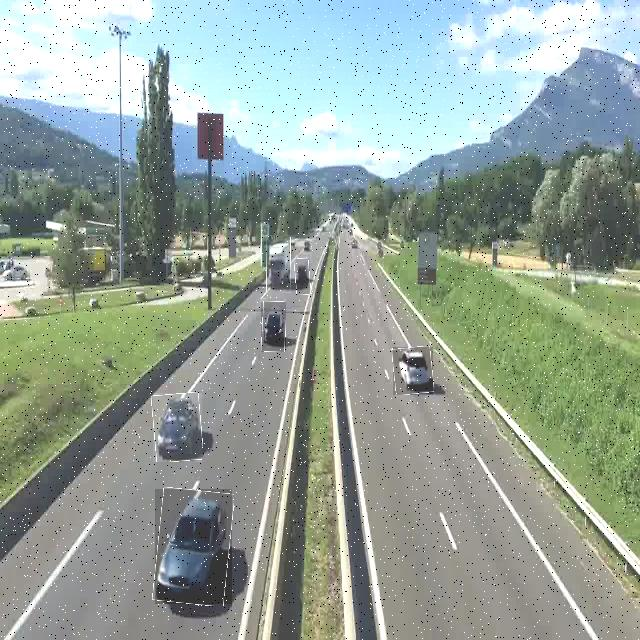Car: (155, 489, 232, 604), (153, 393, 202, 462), (393, 347, 433, 395), (261, 302, 286, 352), (296, 259, 310, 295)
Truck: (267, 235, 291, 293)
